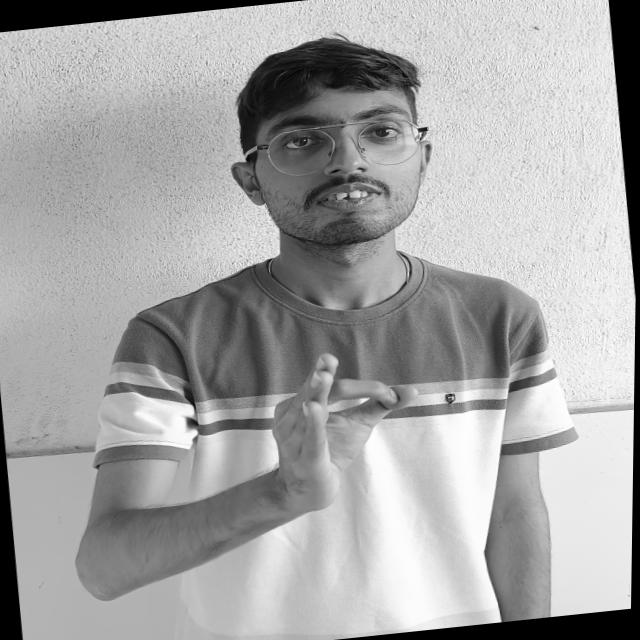Superb: (221, 316, 523, 564)
